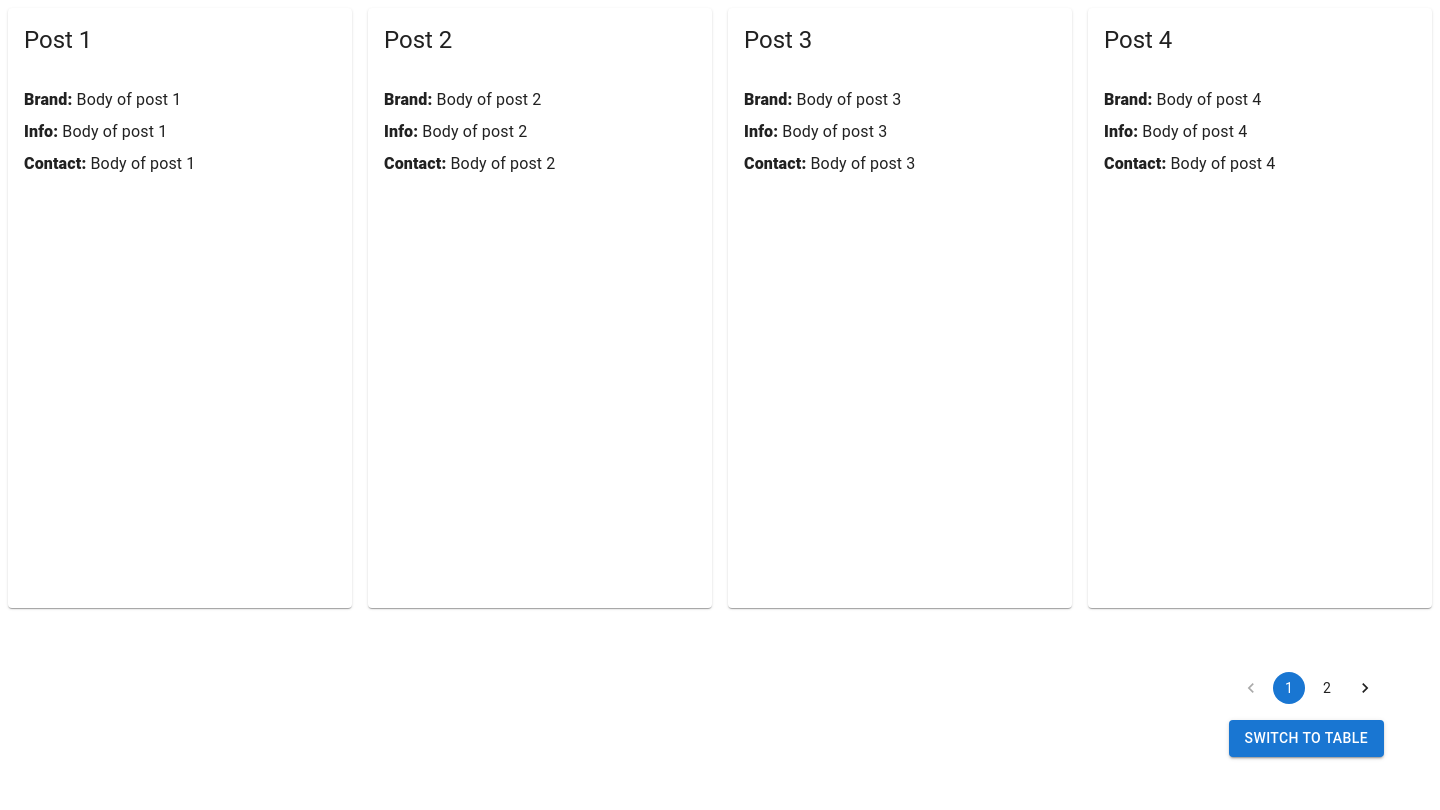
Test: App Component tests › switches to the table view when the button is clicked
Click the button "Switch to Table" at (1306, 738), box [1229,720,1384,756]
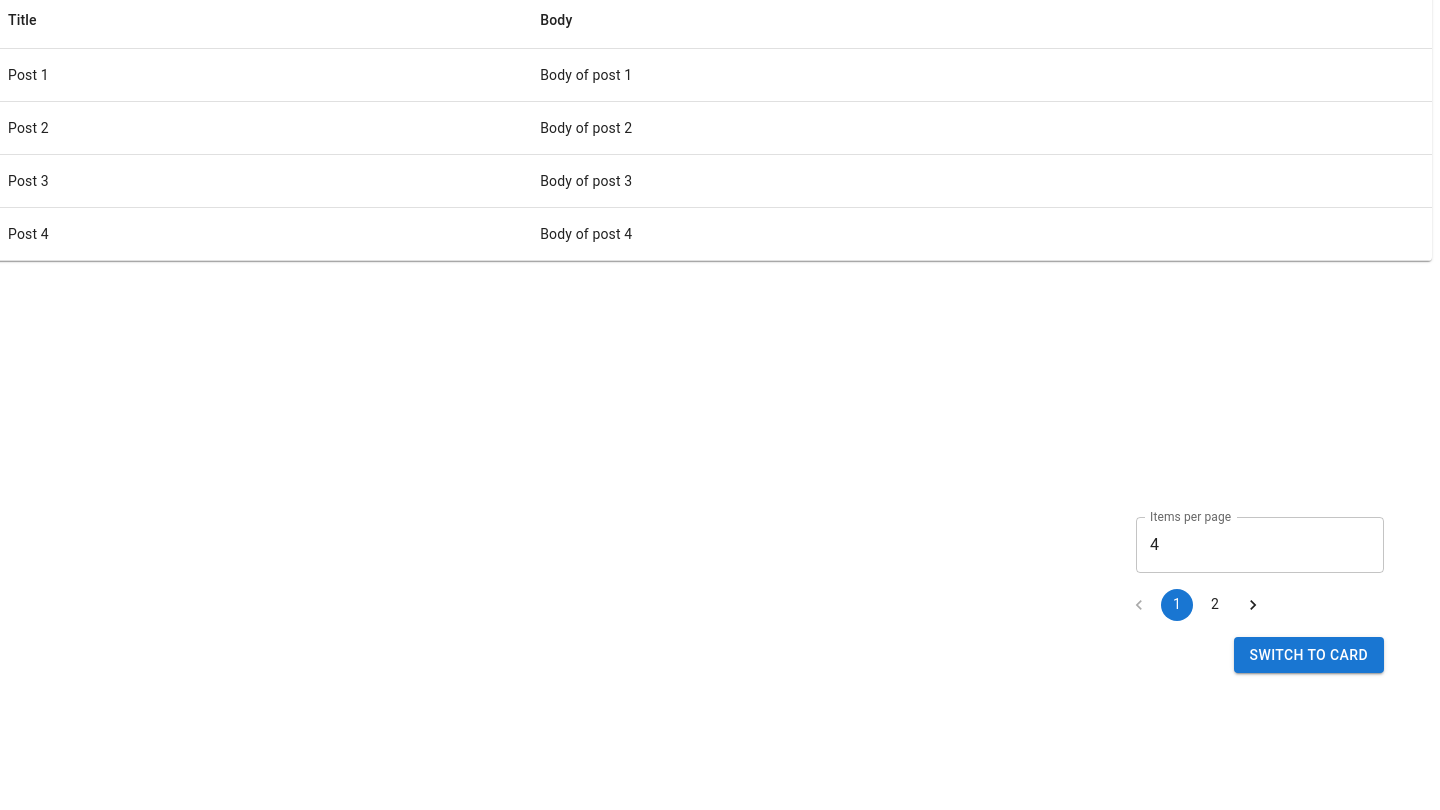
Expected: the button "Switch to Card" is shown, [1234,636,1384,673]
